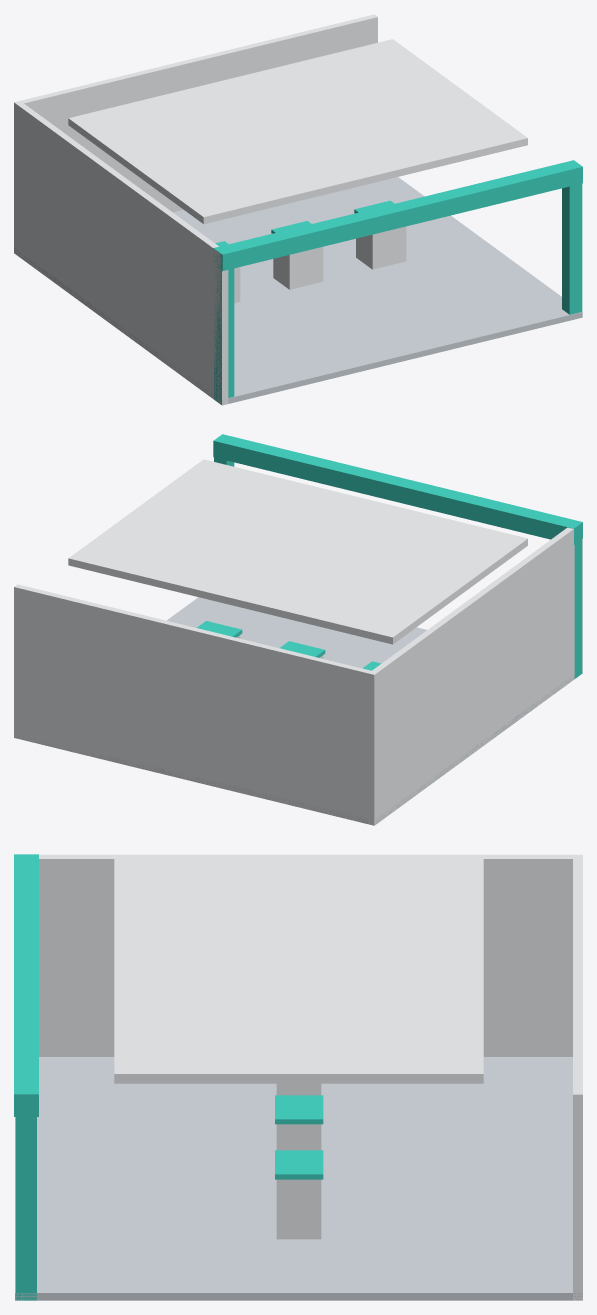
3 views of the same model, one above another, from view 1: azimuth 30°, elevation 25°; view 2: azimuth 150°, elevation 25°; view 3: azimuth 270°, elevation 25° (orthographic). The views are drawn at different scales.
Parts seen in each view (by area): view 1: Exhibition Booth Concept; view 2: Exhibition Booth Concept; view 3: Exhibition Booth Concept.
Part boxes in pixels (x1,y1,x2,y2): Exhibition Booth Concept: [14, 14, 582, 405]; Exhibition Booth Concept: [14, 434, 582, 825]; Exhibition Booth Concept: [14, 854, 582, 1300].
Size of the model in its own units: 8 by 3.34 by 8.01.
